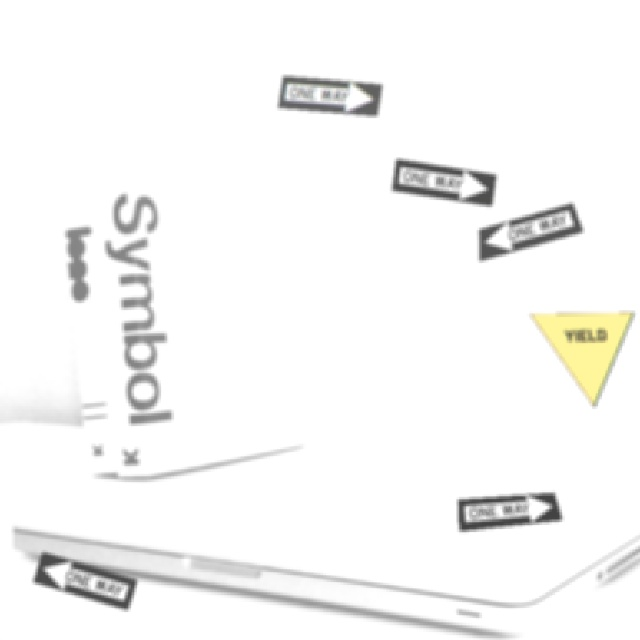ONE_WAY_ left: (477, 201, 582, 260), (31, 550, 136, 609)
ONE_WAY_ right: (390, 157, 495, 205), (276, 74, 381, 115), (456, 491, 561, 530)
YIELD: (528, 311, 633, 406)
